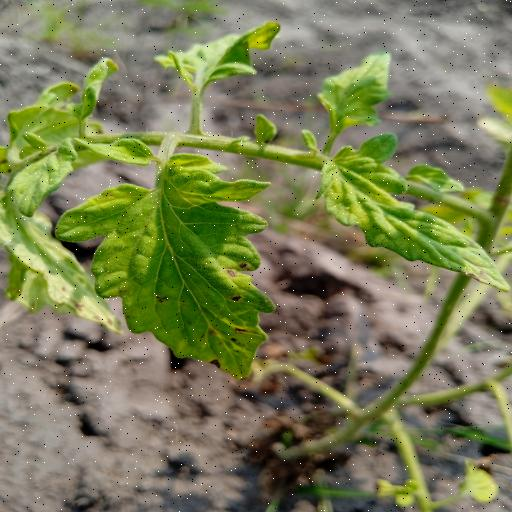Tomato_Brown_Spots: (53, 148, 274, 384), (319, 146, 512, 294)
